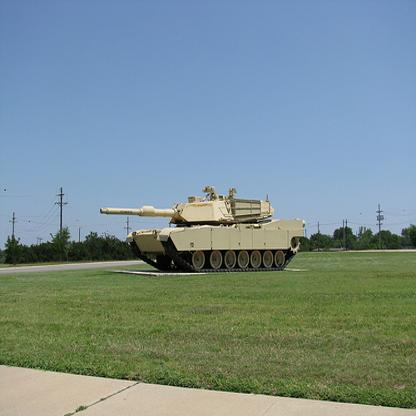Tank: (94, 182, 314, 285)
